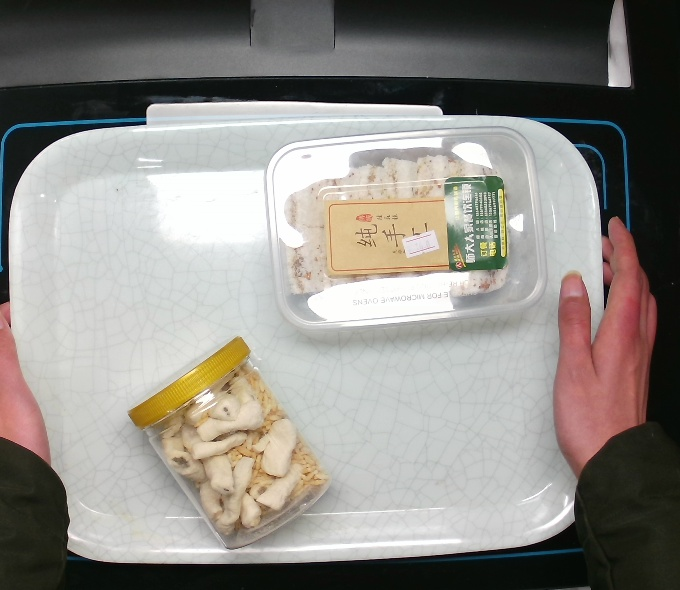wcq-GuiHuaGao: (262, 122, 556, 335)
wcq-MaiYaTang: (123, 332, 336, 555)
